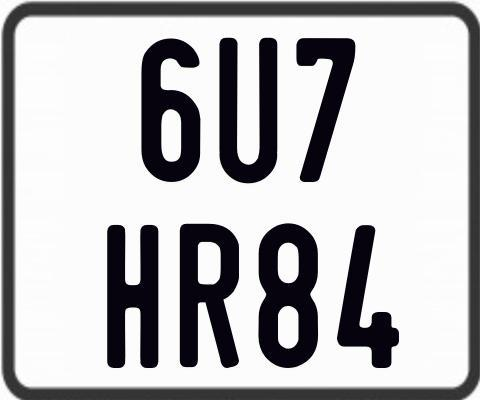4: (335, 223, 399, 367)
6: (140, 38, 203, 187)
7: (294, 37, 358, 181)
8: (257, 220, 317, 368)
H: (105, 223, 159, 368)
R: (178, 222, 238, 366)
U: (219, 37, 282, 182)
